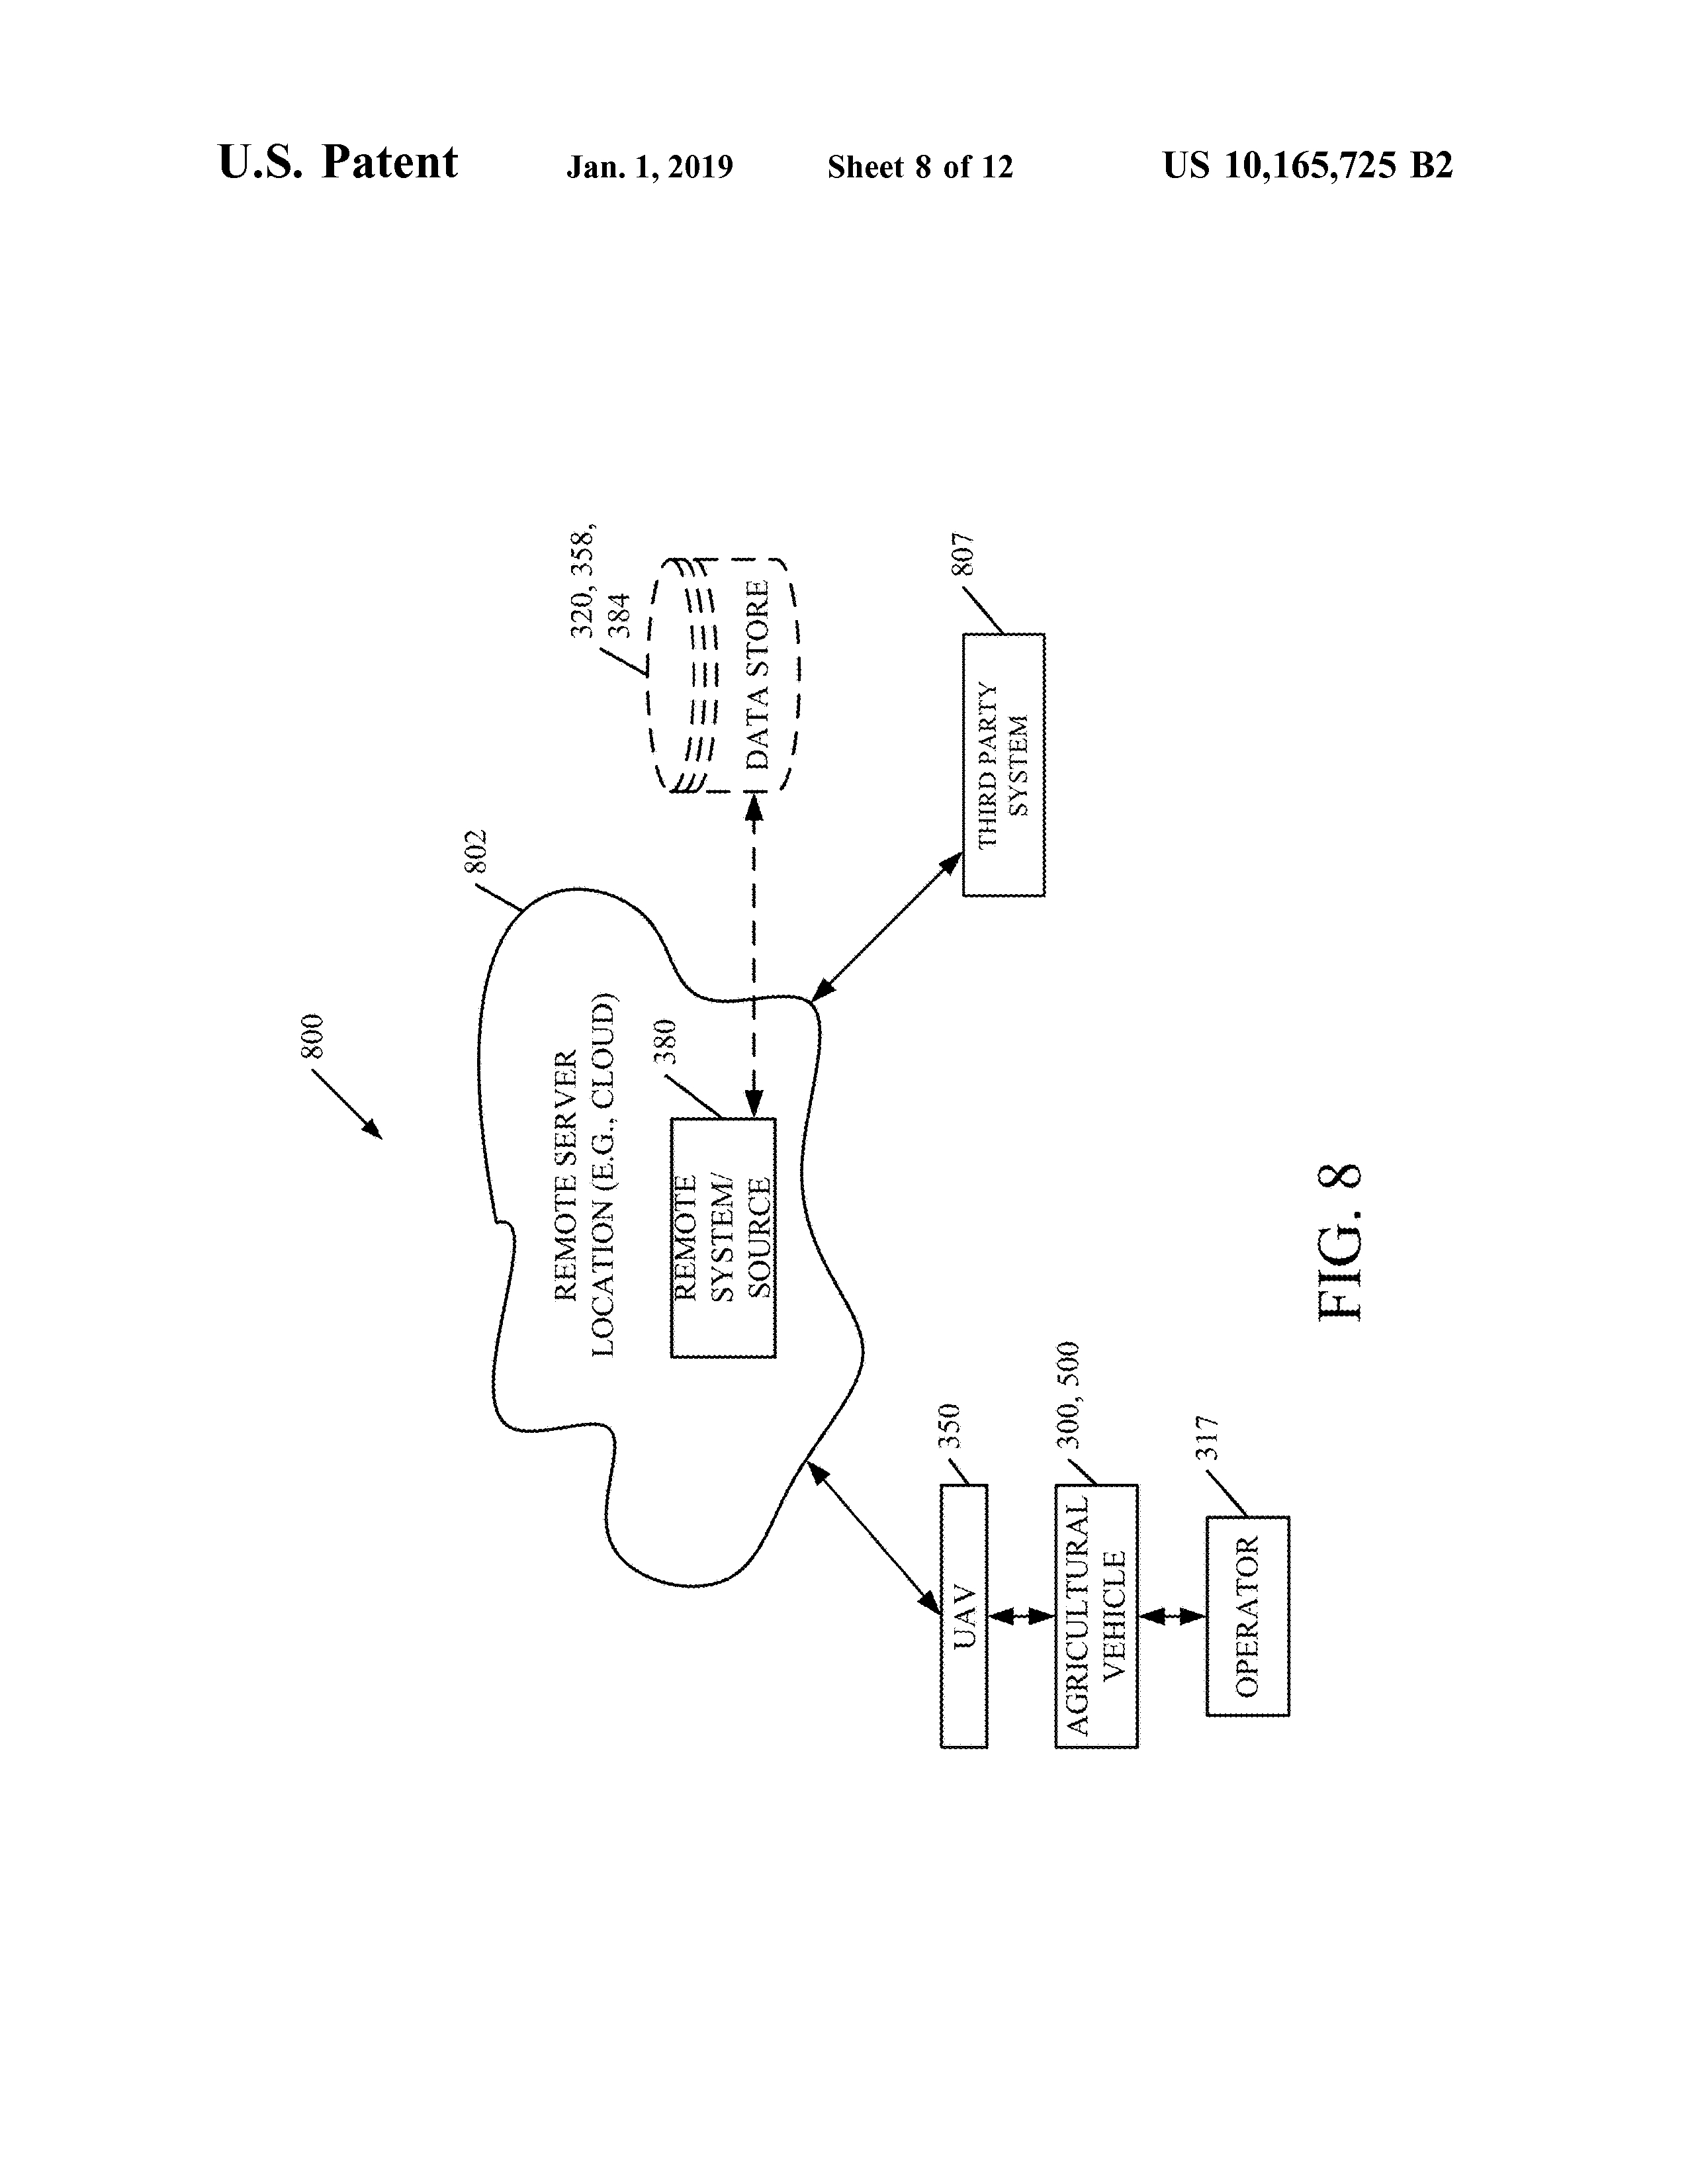patent image: (273, 495, 1392, 1770)
